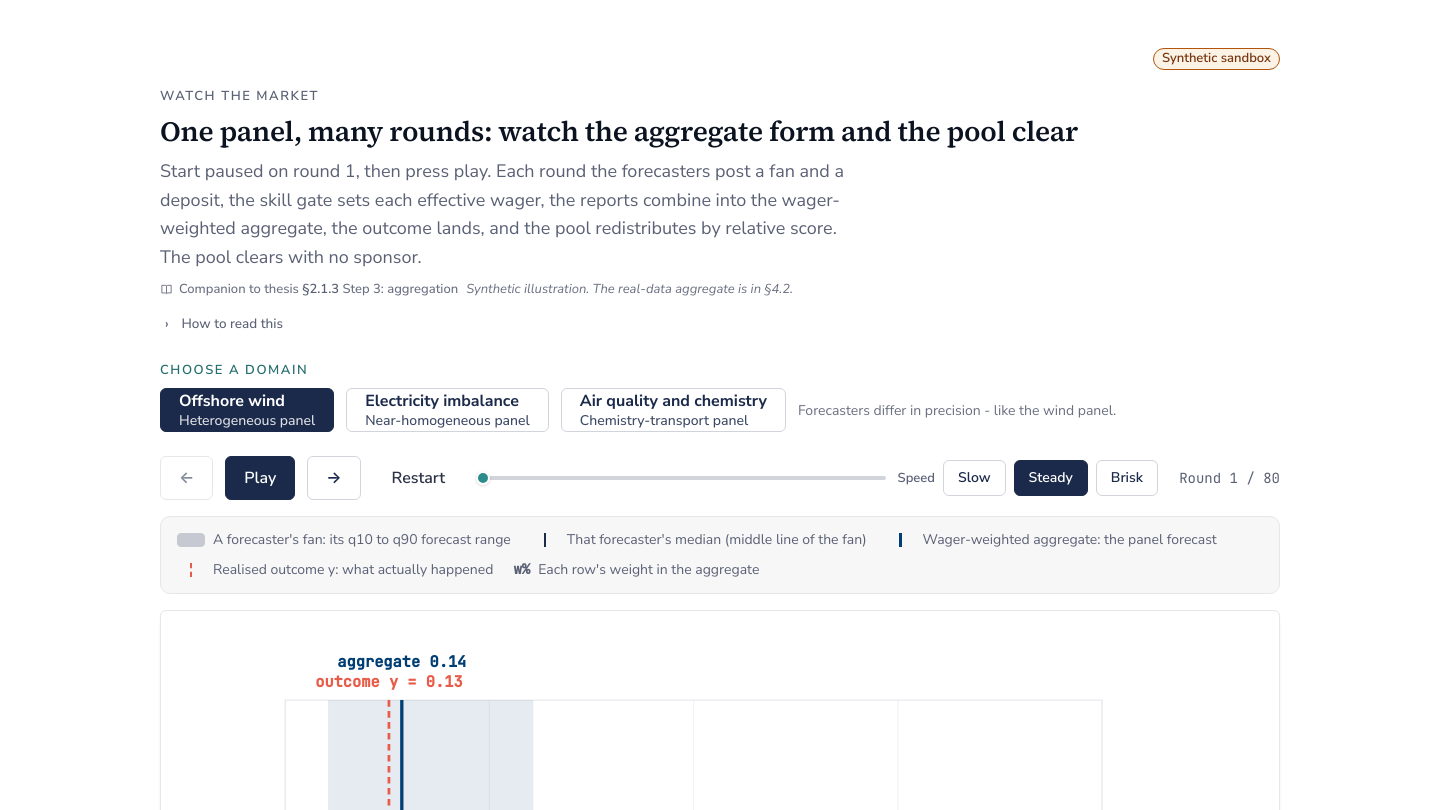
Test case: MarketPage — transport wired to the live floor › the play/pause control flips its label when toggled
The width and height of the screenshot is (1440, 810).
Click the button with test id "transport-toggle".
click(260, 478)  # box [225,456,295,500]
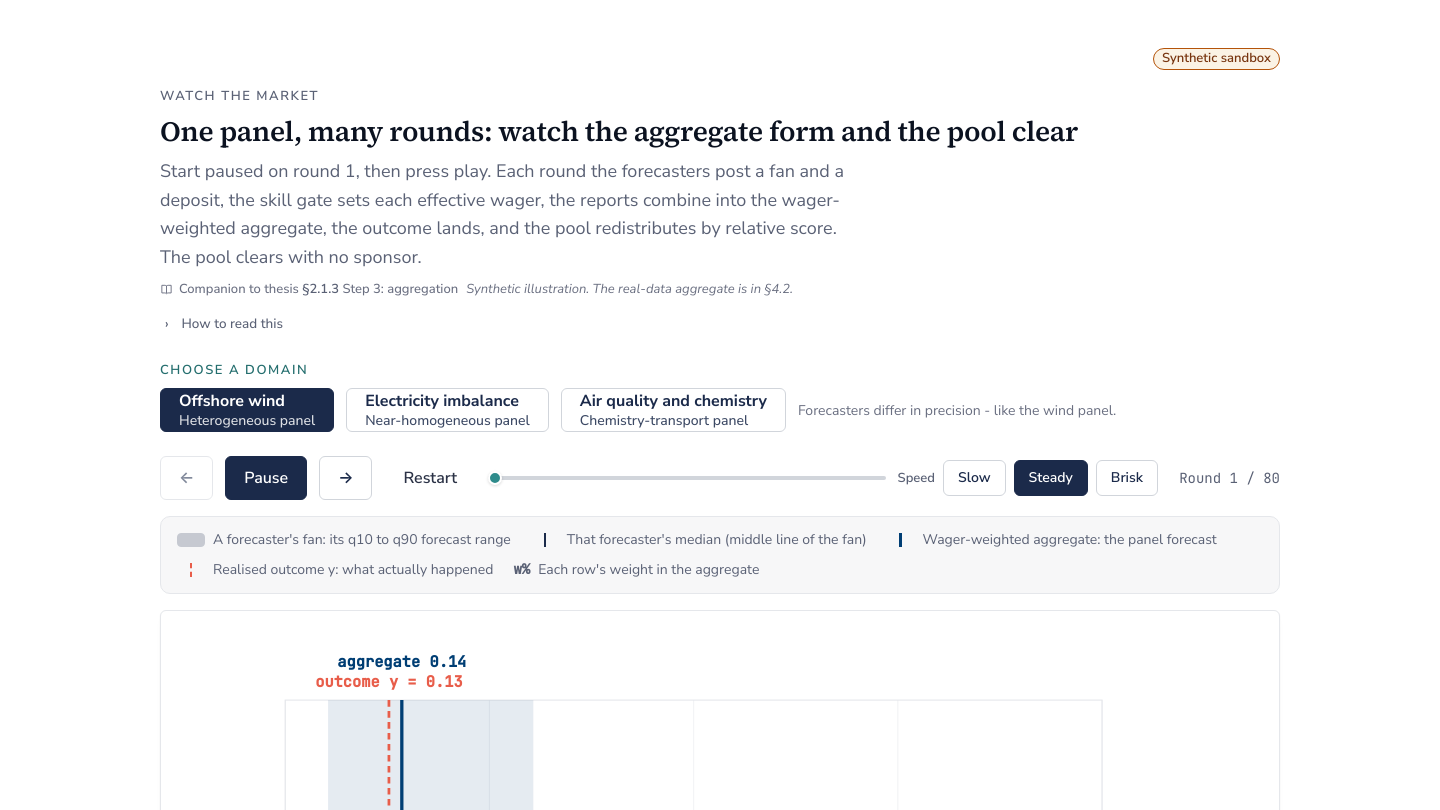
Result: the button with test id "transport-toggle" reads "Pause"
Click the button with test id "transport-toggle".
click(266, 478)  # box [225,456,307,500]
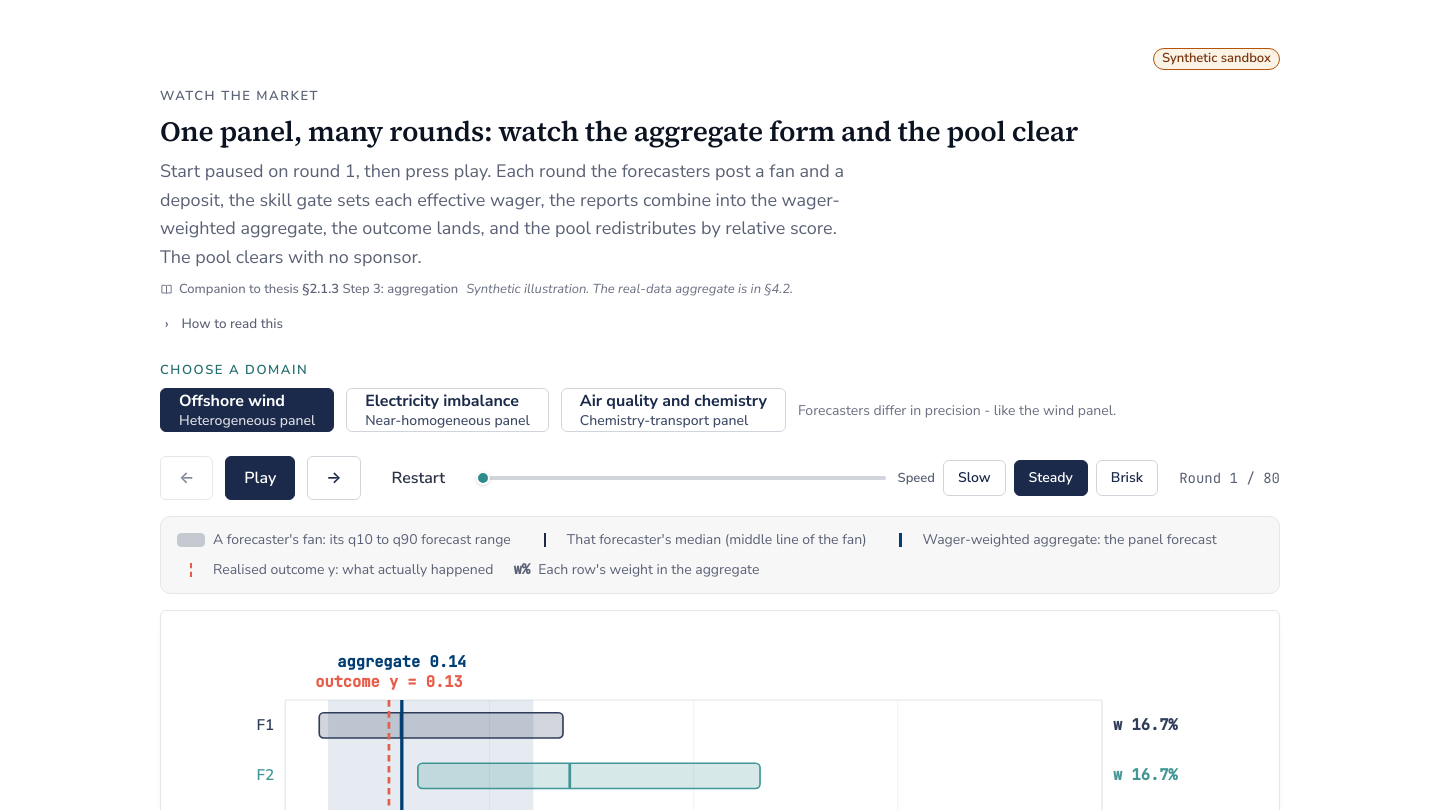
Result: the button with test id "transport-toggle" reads "Play" at [225,456,295,500]
